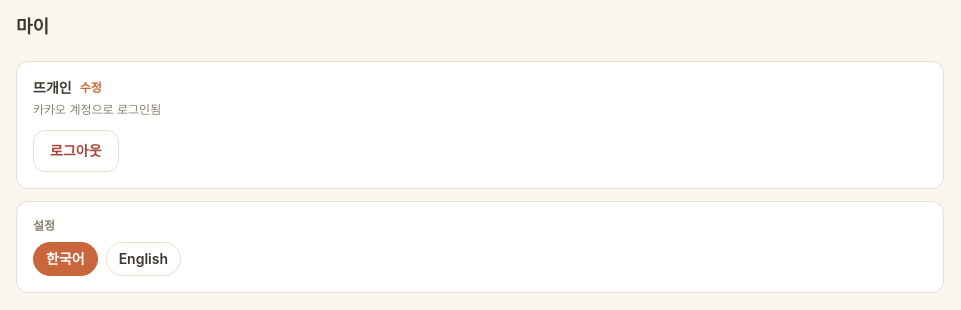
Scenario: MyPage › 언어 버튼으로 화면 언어를 바꾼다
This screenshot has width=961, height=310.
Expected: the heading "마이" is shown, [16,16,49,37]
Click the button "English": (143, 259) [106,242,181,276]
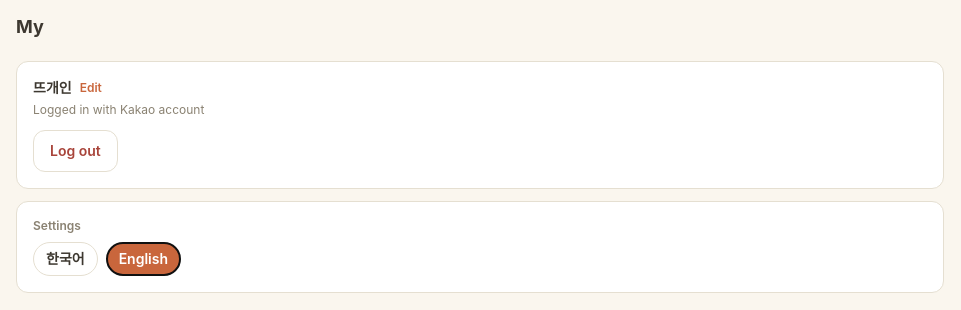
Now the heading "My" is shown, box [16,16,44,37]
